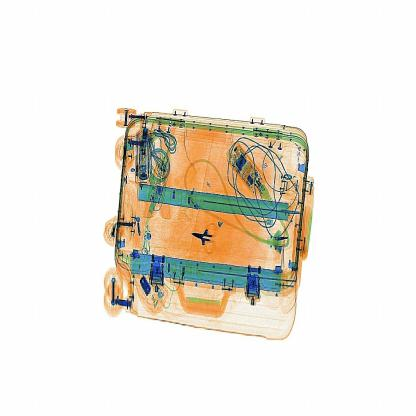gun: (187, 216, 227, 253)
